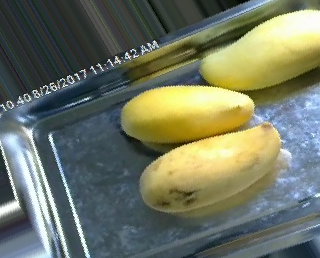Mango: (136, 123, 282, 217), (197, 2, 320, 92), (119, 81, 256, 141)
